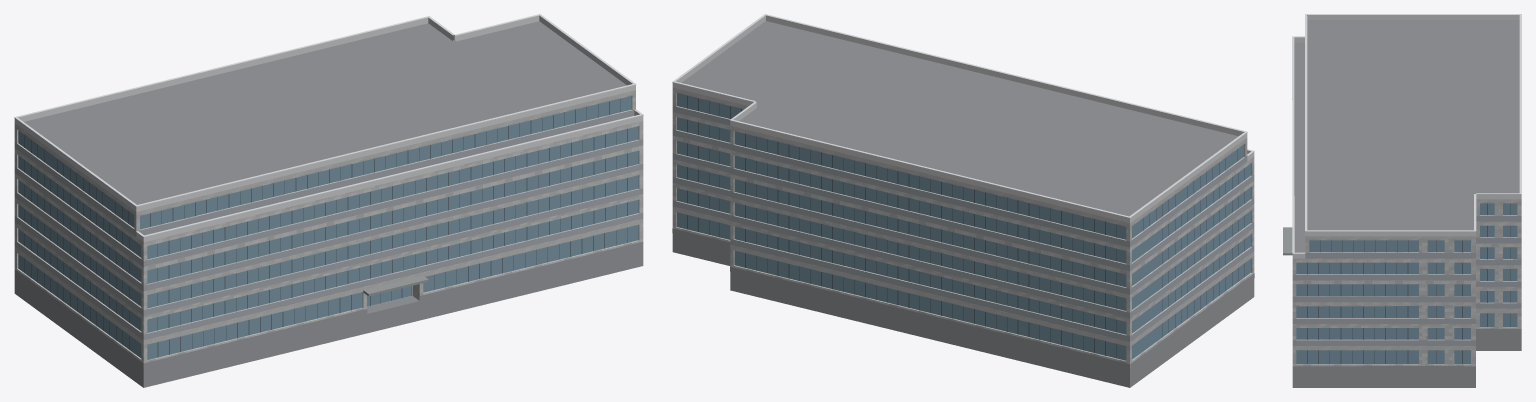
3 renders of one model, left to right at view 1: azimuth 30°, elevation 25°; view 2: azimuth 150°, elevation 25°; view 3: azimuth 270°, elevation 25°, orthographic. The views are drawn at different scales.
Parts seen in each view (by area): view 1: semiconductor__roof, semiconductor__glass, semiconductor__wall, semiconductor__wall2, semiconductor__base, semiconductor__parapet, semiconductor__frame, semiconductor__trim; view 2: semiconductor__roof, semiconductor__glass, semiconductor__wall, semiconductor__wall2, semiconductor__base, semiconductor__parapet, semiconductor__frame, semiconductor__trim; view 3: semiconductor__roof, semiconductor__glass, semiconductor__wall, semiconductor__wall2, semiconductor__base, semiconductor__trim, semiconductor__parapet, semiconductor__frame, semiconductor__canopy.
Boxes of the visible parts, left/top/right/bottom form: semiconductor__roof: left=24, top=21, right=626, bottom=313; semiconductor__glass: left=18, top=96, right=638, bottom=359; semiconductor__wall: left=14, top=90, right=643, bottom=367; semiconductor__wall2: left=14, top=109, right=643, bottom=340; semiconductor__base: left=14, top=241, right=643, bottom=387; semiconductor__parapet: left=14, top=15, right=643, bottom=242; semiconductor__frame: left=24, top=98, right=627, bottom=357; semiconductor__trim: left=14, top=14, right=643, bottom=237; semiconductor__roof: left=681, top=21, right=1238, bottom=216; semiconductor__glass: left=677, top=93, right=1250, bottom=360; semiconductor__wall: left=672, top=87, right=1254, bottom=368; semiconductor__wall2: left=672, top=106, right=1254, bottom=341; semiconductor__base: left=672, top=228, right=1254, bottom=387; semiconductor__parapet: left=672, top=15, right=1254, bottom=223; semiconductor__frame: left=687, top=95, right=1244, bottom=357; semiconductor__trim: left=672, top=14, right=1254, bottom=218; semiconductor__roof: left=1294, top=20, right=1519, bottom=252; semiconductor__glass: left=1296, top=203, right=1517, bottom=363; semiconductor__wall: left=1292, top=199, right=1521, bottom=366; semiconductor__wall2: left=1292, top=216, right=1521, bottom=345; semiconductor__base: left=1292, top=329, right=1521, bottom=387; semiconductor__trim: left=1292, top=14, right=1521, bottom=254; semiconductor__parapet: left=1292, top=15, right=1521, bottom=258; semiconductor__frame: left=1307, top=203, right=1510, bottom=363; semiconductor__canopy: left=1283, top=227, right=1292, bottom=255.
Bounding box in the file's own units: 80.72 × 27.2 × 37.53.
10 materials, 1 textured.
